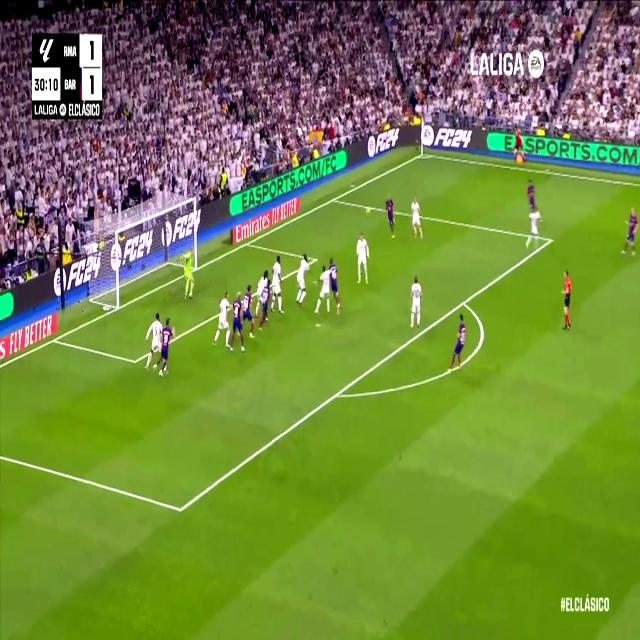bigarea_bottom_inner: (174, 492, 188, 526)
bigarea_top_inner: (546, 229, 554, 250)
bigarea_top_outter: (329, 190, 338, 207)
bottom_arc_area_intersection: (331, 381, 343, 407)
corner: (416, 147, 427, 161)
smallarea_bottom_inner: (130, 350, 140, 371)
smallarea_bottom_outter: (50, 331, 60, 347)
smallarea_top_inner: (311, 250, 319, 268)
top_arc_area_intersection: (459, 293, 468, 311)
